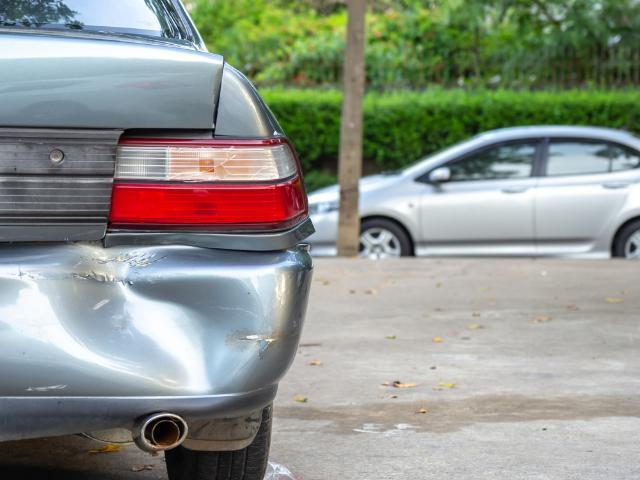dent: (0, 245, 264, 393)
lamp broken: (108, 137, 310, 236)
